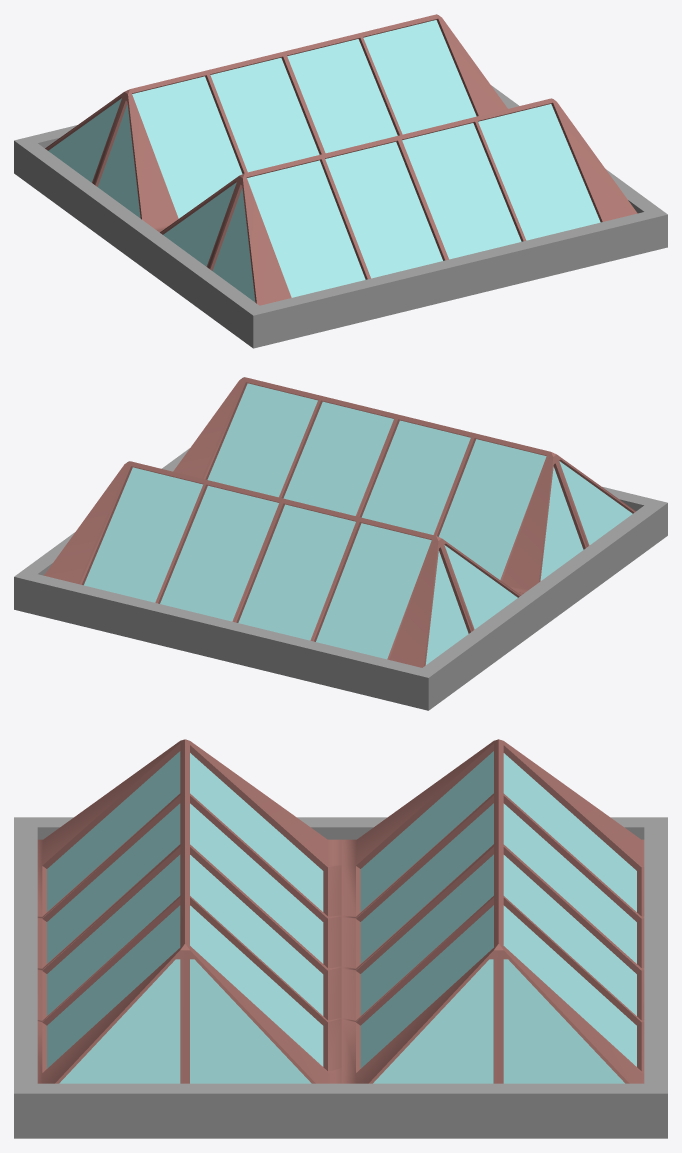
File: RoofV4.fbx
The picture shows the model from 3 angles, top to bottom: view 1: azimuth 30°, elevation 25°; view 2: azimuth 150°, elevation 25°; view 3: azimuth 270°, elevation 25°; orthographic projection. The views are drawn at different scales.
Visible parts, largest first — view 1: pCube29, pCube28, pCube10; view 2: pCube28, pCube29, pCube10; view 3: pCube29, pCube28, pCube10.
Part boxes in pixels (bbox=[...]): pCube29: bbox=[158, 98, 637, 305]; pCube28: bbox=[45, 14, 507, 230]; pCube10: bbox=[14, 85, 667, 348]; pCube28: bbox=[44, 461, 523, 667]; pCube29: bbox=[173, 377, 635, 593]; pCube10: bbox=[14, 448, 667, 710]; pCube29: bbox=[37, 739, 341, 1083]; pCube28: bbox=[341, 739, 644, 1083]; pCube10: bbox=[14, 817, 667, 1138].
Bounding box in the file's own units: 27.28 × 7.32 × 27.28.
